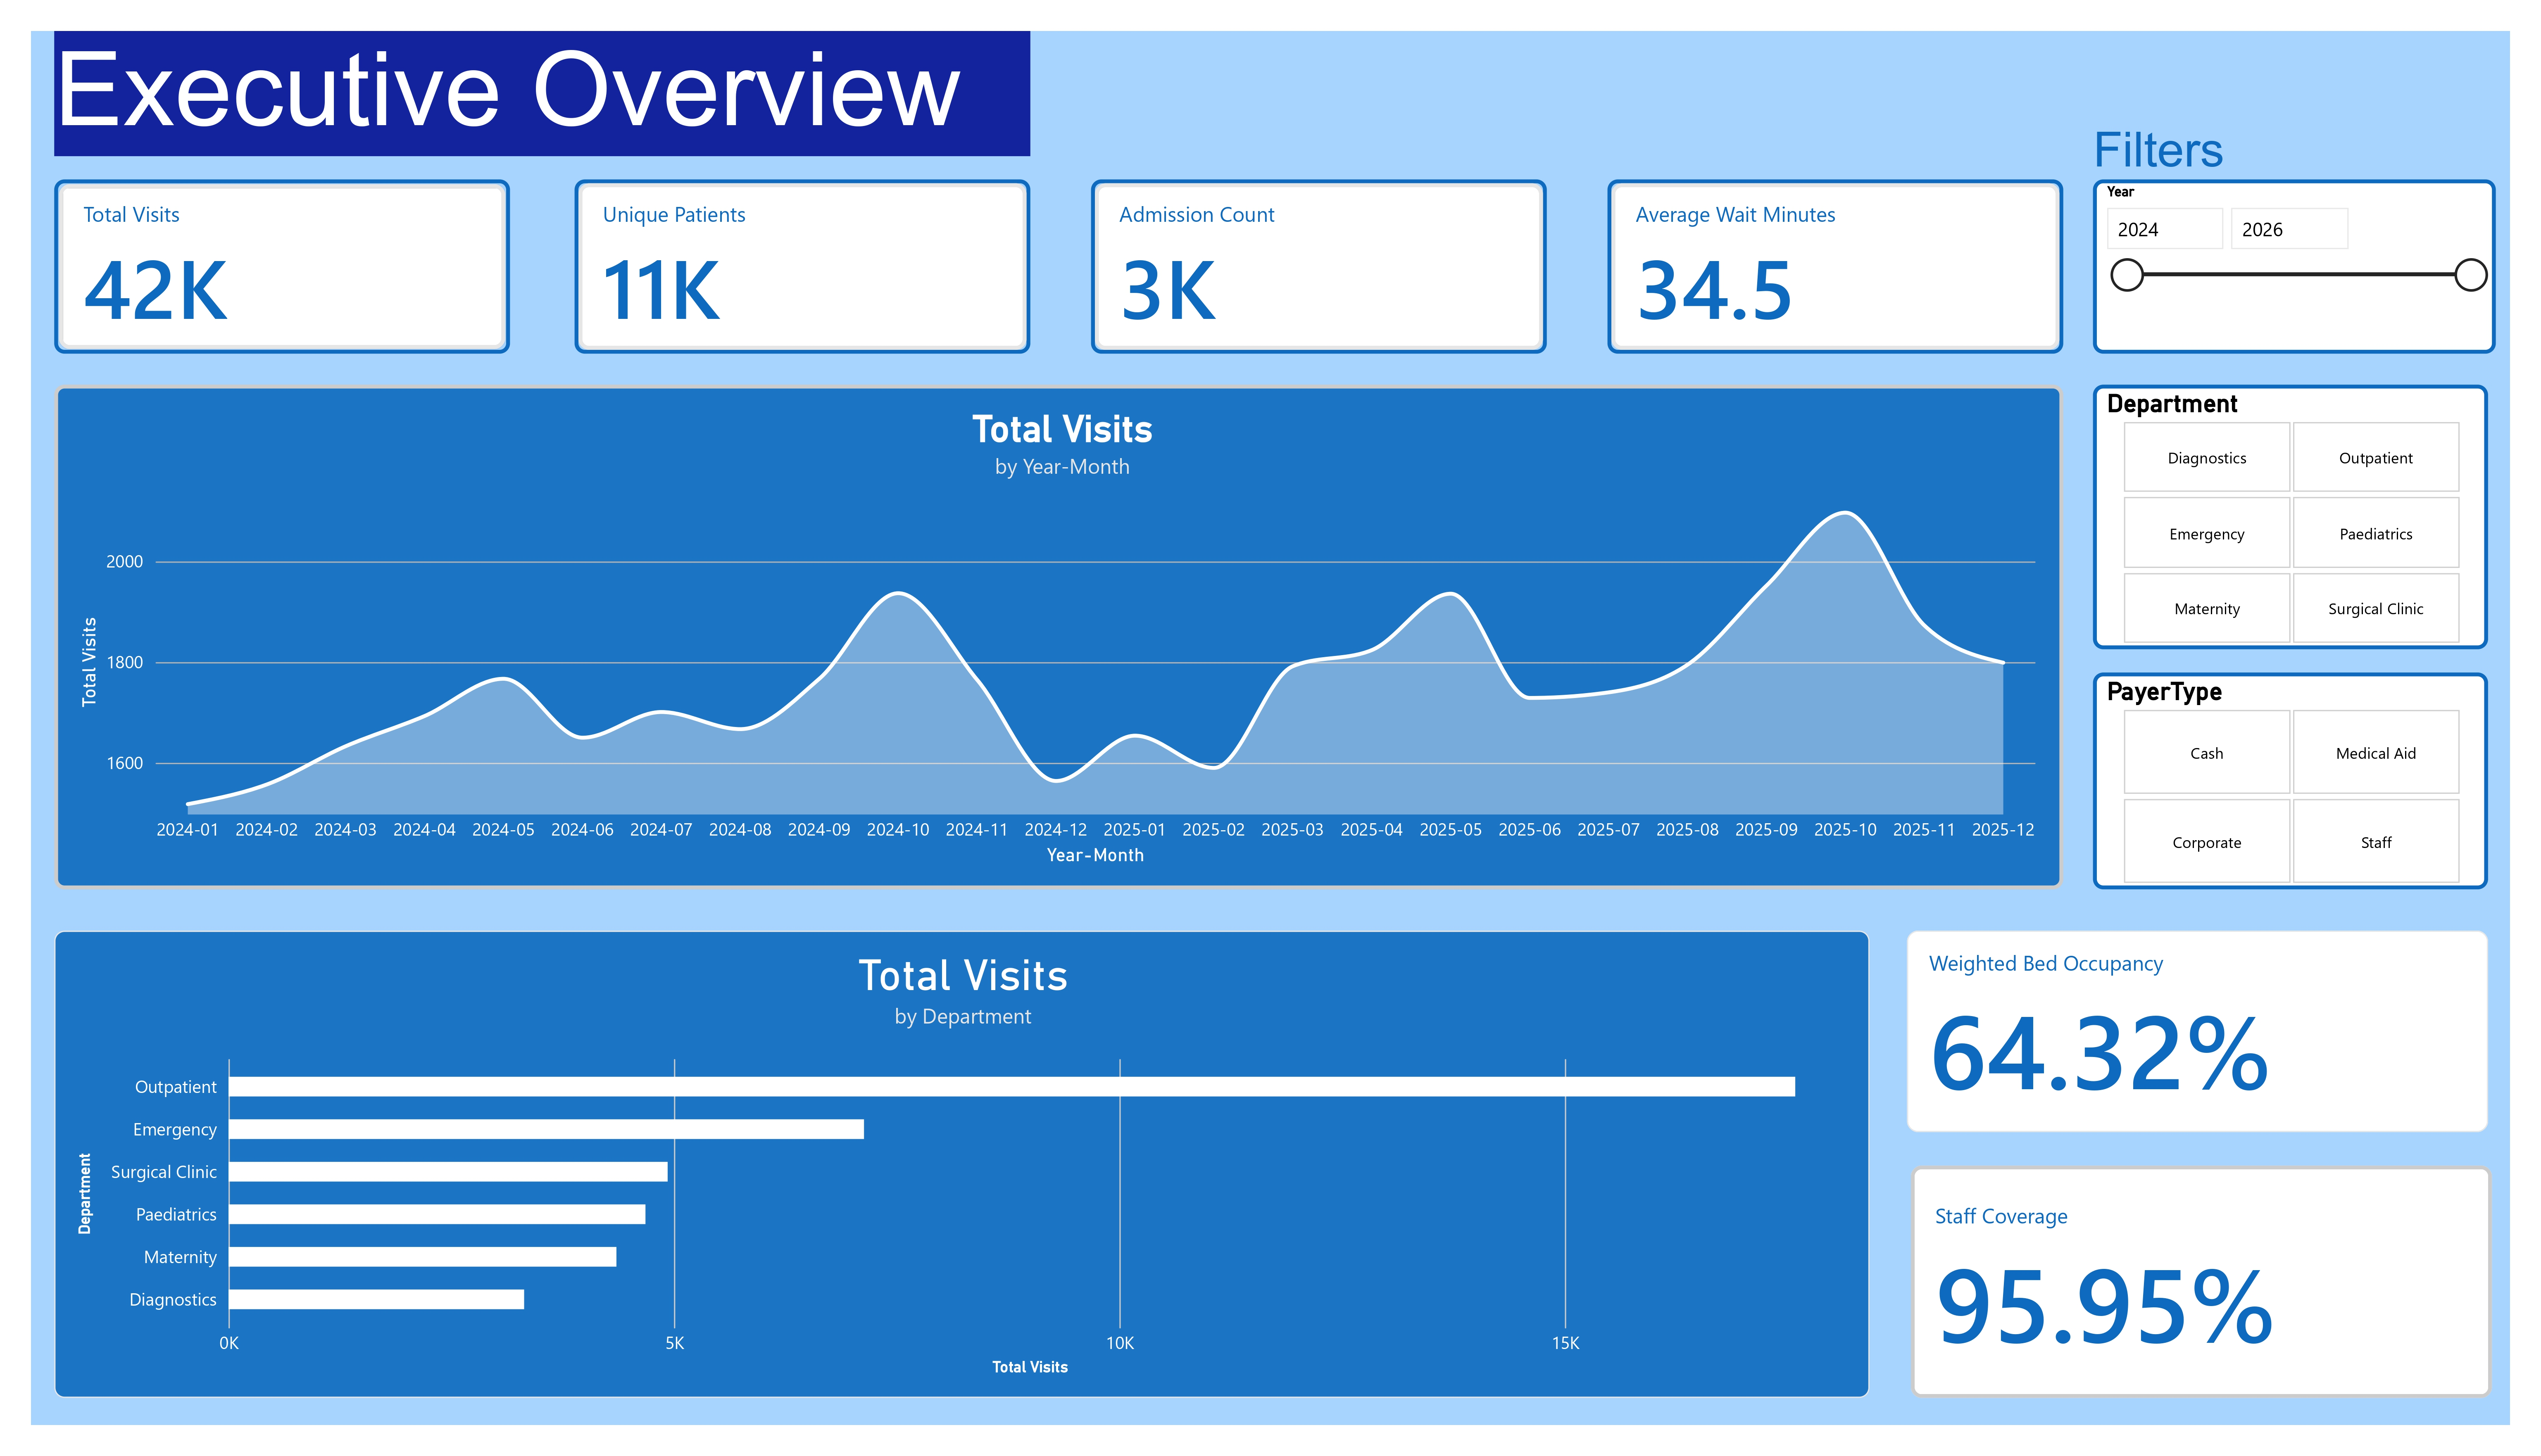

The page's visual inventory and layout, read from the dashboard file:
{"tool":"powerbi","page":{"name":"Executive Overview","canvas":[1920,1080],"ordinal":0},"visuals":[{"type":"cardVisual","title":"Total ","fields":{"Data":["Visits.Total Visits"]},"box":[17.6,114.7,352.9,135.3],"z":0},{"type":"cardVisual","fields":{"Data":["Visits.Unique Patients"]},"box":[420.6,114.7,352.9,135.3],"z":1000},{"type":"cardVisual","fields":{"Data":["Visits.Admission Count"]},"box":[820.6,114.7,352.9,135.3],"z":2000},{"type":"cardVisual","fields":{"Data":["Visits.Average Wait Minutes"]},"box":[1220.6,114.7,352.9,135.3],"z":3000},{"type":"lineChart","fields":{"Category":["Calendar.Year-Month"],"Y":["Visits.Total Visits"]},"box":[17.6,273.5,1555.9,391.2],"z":4000},{"type":"clusteredBarChart","fields":{"Category":["Visits.Department"],"Y":["Visits.Total Visits"]},"box":[17.6,697.1,1405.9,361.8],"z":5000},{"type":"cardVisual","fields":{"Data":["Visits.Weighted Bed Occupancy"]},"box":[1452.9,697.1,450,155.9],"z":6000},{"type":"cardVisual","fields":{"Data":["Visits.Staff Coverage"]},"box":[1455.9,879.4,450,179.4],"z":7000},{"type":"slicer","fields":{"Values":["Calendar.Year"]},"box":[1597.1,114.7,311.8,135.3],"z":8000},{"type":"slicer","fields":{"Values":["Visits.Department"]},"box":[1597.1,273.5,305.9,205.9],"z":9000},{"type":"slicer","fields":{"Values":["Visits.PayerType"]},"box":[1597.1,497.1,305.9,167.6],"z":10000},{"type":"textbox","box":[17.6,0,755.9,97.1],"z":11000},{"type":"textbox","box":[1597.1,70.6,311.8,44.1],"z":12000}]}

Visuals, with their boxes in screenshot pixels (x1, y1, x2, y2):
"Total " cardVisual: locate(30, 169, 490, 346)
cardVisual - Visits.Unique Patients: locate(556, 169, 1016, 346)
cardVisual - Visits.Admission Count: locate(1078, 169, 1538, 346)
cardVisual - Visits.Average Wait Minutes: locate(1600, 169, 2060, 346)
lineChart - Calendar.Year-Month x Visits.Total Visits: locate(30, 377, 2060, 887)
clusteredBarChart - Visits.Department x Visits.Total Visits: locate(30, 929, 1865, 1401)
cardVisual - Visits.Weighted Bed Occupancy: locate(1903, 929, 2490, 1133)
cardVisual - Visits.Staff Coverage: locate(1907, 1167, 2494, 1401)
slicer - Calendar.Year: locate(2091, 169, 2498, 346)
slicer - Visits.Department: locate(2091, 377, 2490, 645)
slicer - Visits.PayerType: locate(2091, 668, 2490, 887)
textbox: locate(30, 20, 1016, 147)
textbox: locate(2091, 112, 2498, 169)
